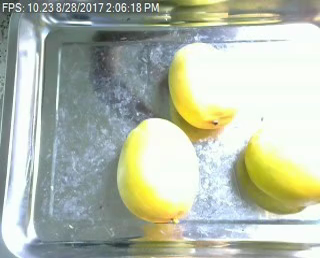Mango: (114, 116, 200, 222), (242, 118, 320, 208), (166, 40, 241, 131)
